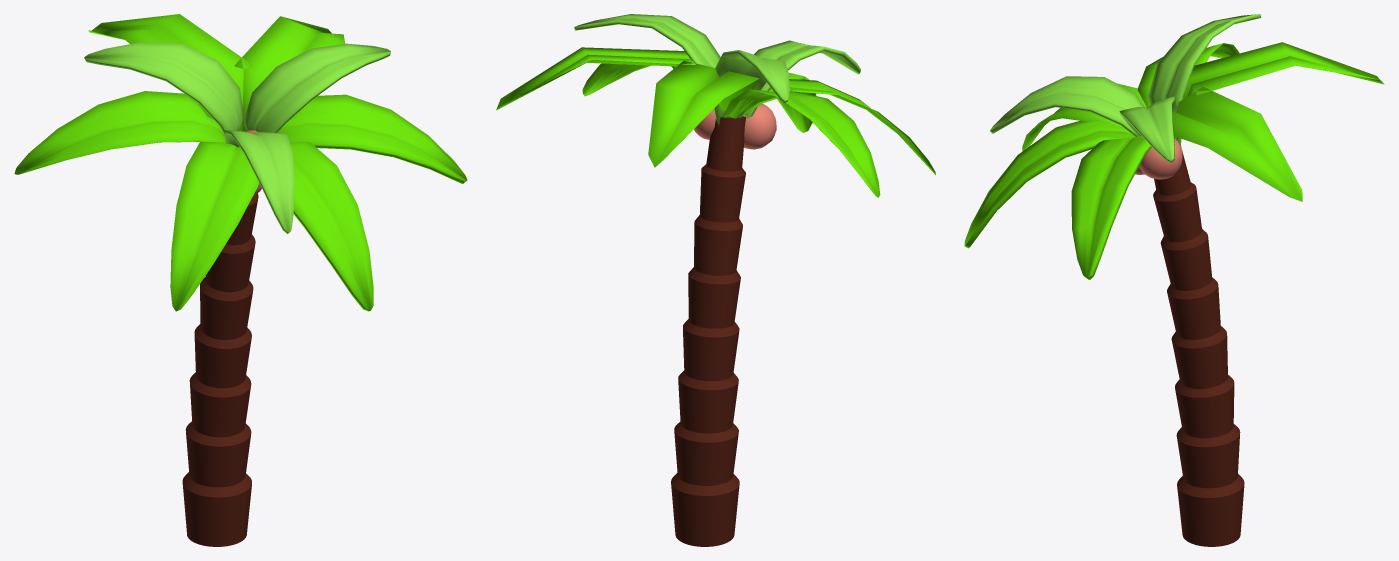
File: Palmtree_3.fbx
3 views of the same model, side by side, from view 1: azimuth 30°, elevation 25°; view 2: azimuth 150°, elevation 25°; view 3: azimuth 270°, elevation 25° (orthographic). The views are drawn at different scales.
Parts seen in each view (by area): view 1: Plane.006, Circle.003; view 2: Circle.003, Plane.006, Cube; view 3: Plane.006, Circle.003, Cube.
Part boxes in pixels (x1=…): Plane.006: x1=14, y1=14, x2=467, y2=311; Circle.003: x1=182, y1=193, x2=258, y2=546; Circle.003: x1=671, y1=116, x2=746, y2=546; Plane.006: x1=496, y1=14, x2=935, y2=197; Cube: x1=694, y1=104, x2=776, y2=149; Plane.006: x1=964, y1=14, x2=1384, y2=279; Circle.003: x1=1153, y1=146, x2=1244, y2=546; Cube: x1=1135, y1=138, x2=1182, y2=179.
Bounding box in the file's own units: 105 × 134 × 105.
